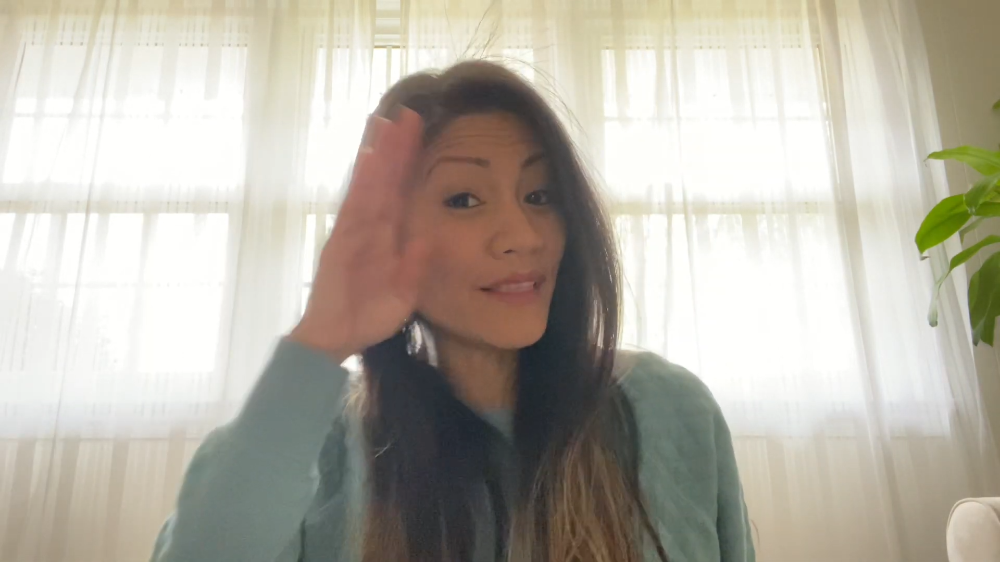hello: (324, 109, 445, 351)
